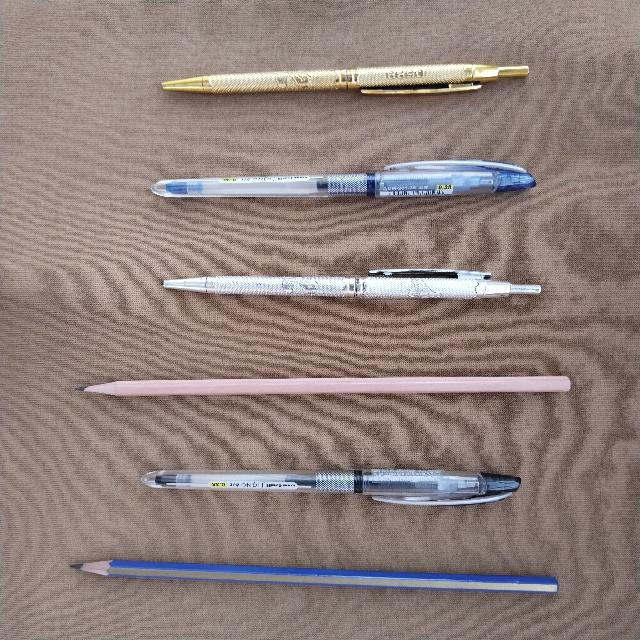pen: (151, 159, 535, 197), (141, 469, 519, 504)
pencil: (72, 560, 557, 592), (77, 376, 570, 395)
signature pen: (162, 63, 528, 94), (163, 269, 540, 298)
